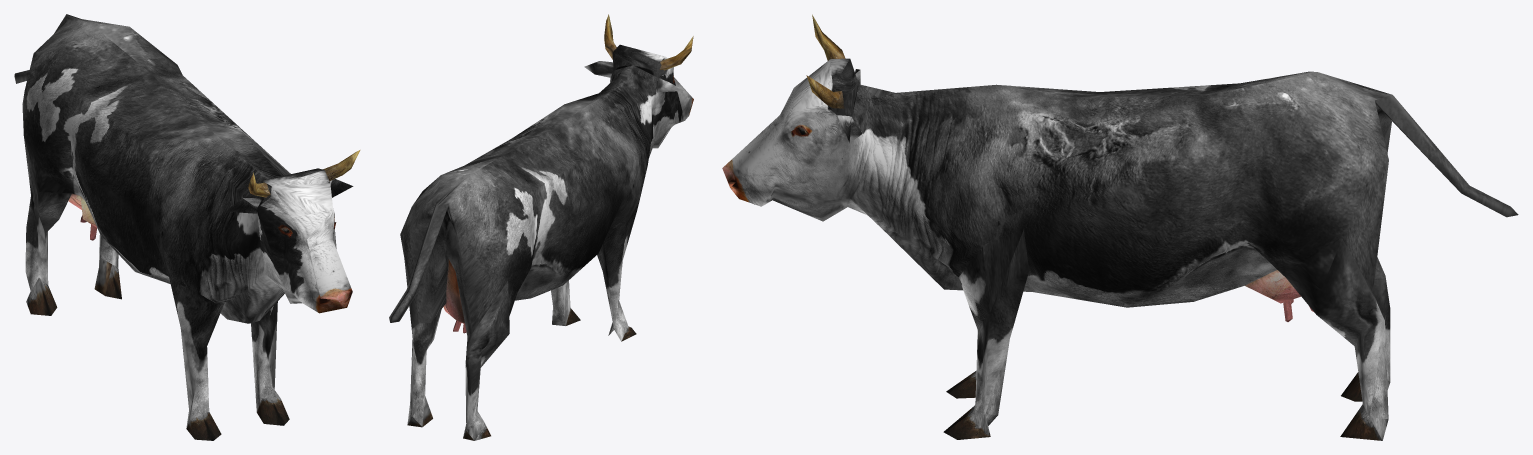
File: cow-stand-black-cbj_LOD01.gltf
3 renders of one model, left to right at view 1: azimuth 30°, elevation 25°; view 2: azimuth 150°, elevation 25°; view 3: azimuth 270°, elevation 25°, orthographic. The views are drawn at different scales.
Parts seen in each view (by area): view 1: Line01.002; view 2: Line01.002; view 3: Line01.002.
Part boxes in pixels (x1,y1,x2,y2): Line01.002: (14, 14, 360, 440); Line01.002: (389, 14, 693, 440); Line01.002: (722, 14, 1518, 440).
Size of the model in its own units: 0.8401 by 1.79 by 3.49.
